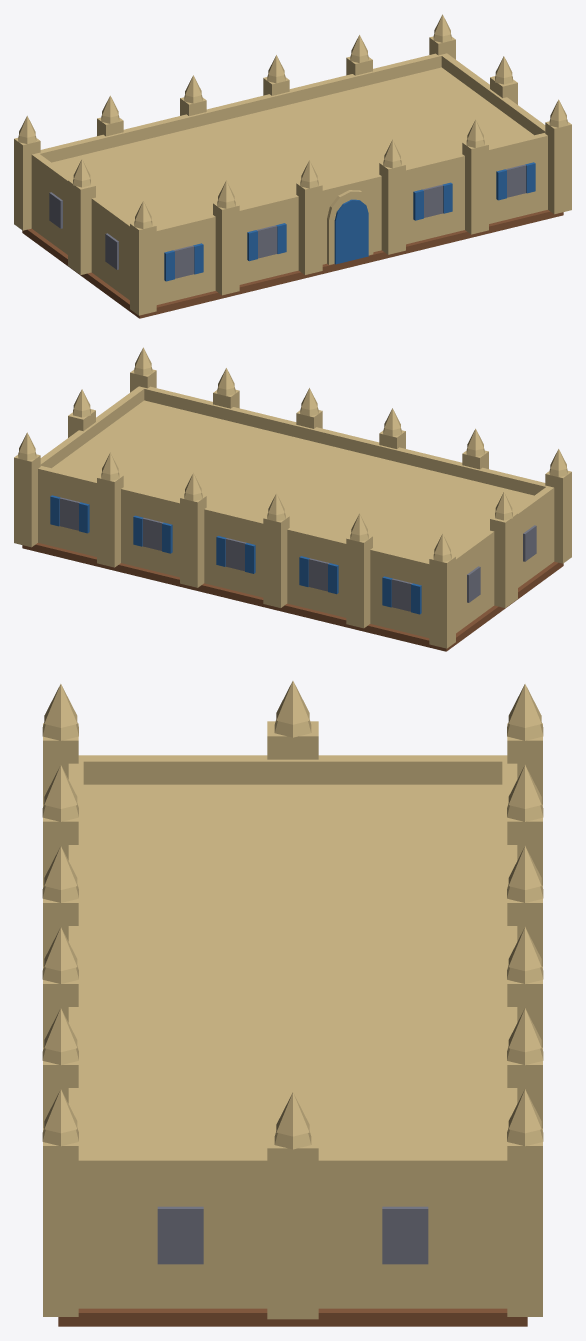
File: house-2x1-1f-banco-a.glb
3 views of the same model, one above another, from view 1: azimuth 30°, elevation 25°; view 2: azimuth 150°, elevation 25°; view 3: azimuth 270°, elevation 25° (orthographic). The views are drawn at different scales.
Visible parts, largest first — view 1: house-2x1-1f-banco-a; view 2: house-2x1-1f-banco-a; view 3: house-2x1-1f-banco-a.
Boxes of the visible parts, x1,y1,x2,y2 form: house-2x1-1f-banco-a: [14, 14, 571, 318]; house-2x1-1f-banco-a: [14, 347, 571, 651]; house-2x1-1f-banco-a: [42, 681, 543, 1326].
Bounding box in the file's own units: 1.99 × 0.505 × 0.9814.
Materials: 1 (1 with a texture image).
